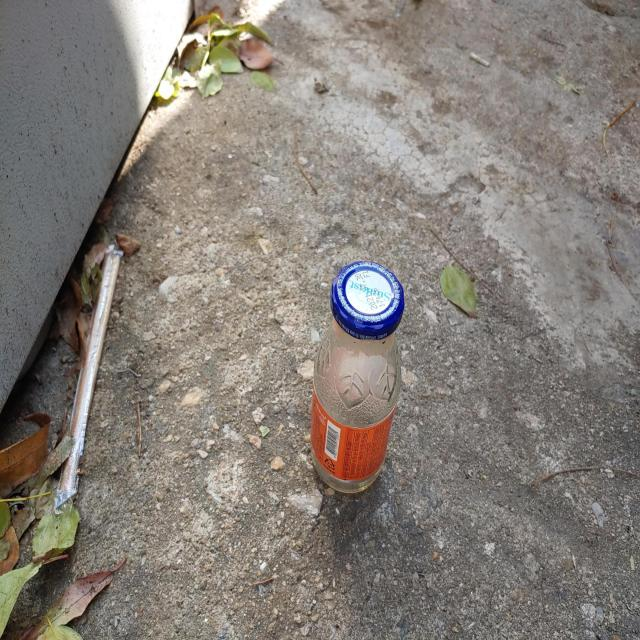glass: (311, 261, 404, 493)
